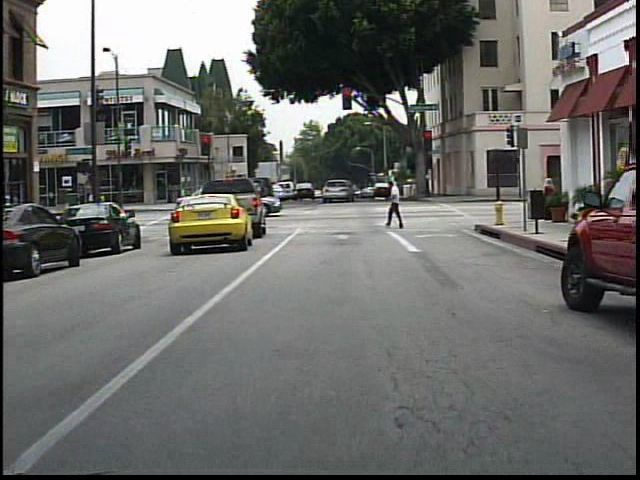person: (385, 180, 411, 231), (540, 174, 562, 196)
